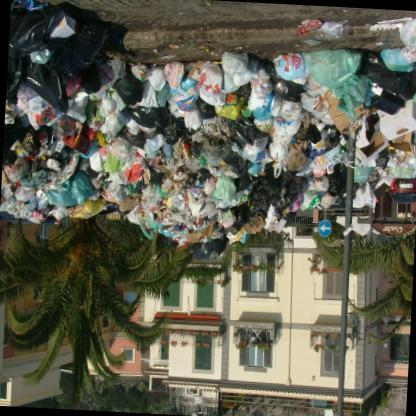Garbage: (0, 8, 415, 270), (1, 65, 210, 191), (0, 143, 55, 223), (380, 12, 415, 74), (304, 42, 353, 86), (367, 140, 415, 178), (148, 206, 190, 241), (207, 165, 242, 206), (333, 74, 370, 110), (374, 145, 415, 176), (92, 99, 127, 135), (272, 95, 304, 134), (216, 36, 244, 76), (218, 117, 256, 146), (70, 166, 94, 211), (343, 174, 376, 206), (323, 159, 348, 201), (238, 131, 268, 163), (22, 159, 46, 196), (174, 86, 200, 120), (277, 170, 299, 209), (303, 127, 336, 151), (210, 202, 235, 233), (101, 182, 133, 206), (176, 82, 197, 118), (156, 60, 184, 87), (135, 127, 161, 156), (106, 142, 134, 168), (180, 107, 203, 138), (112, 140, 134, 171), (7, 152, 24, 192), (268, 59, 298, 80), (313, 150, 335, 178), (202, 63, 223, 92), (128, 63, 152, 88), (300, 188, 322, 214), (267, 136, 286, 164), (230, 210, 248, 238), (185, 192, 201, 217), (4, 201, 31, 215), (166, 191, 184, 212), (320, 191, 340, 207)
